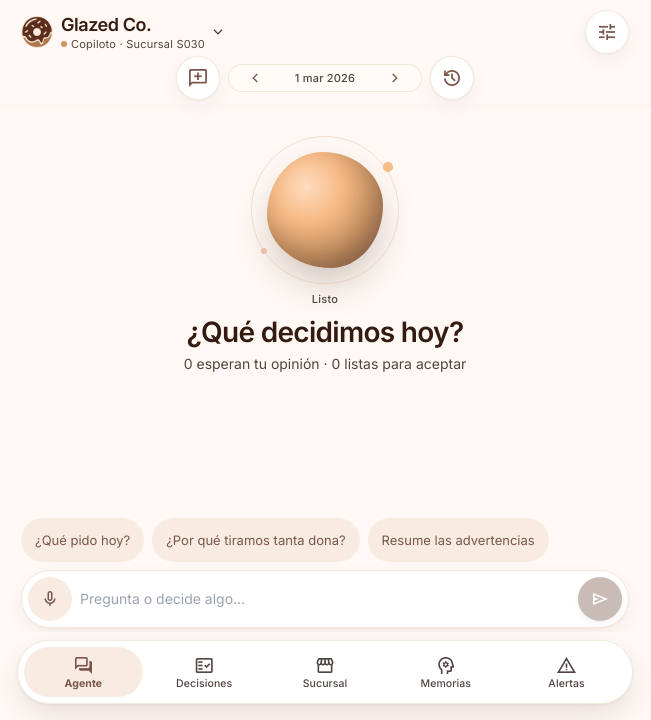
Test: auth gate › auth_required false but me 200 still shows the user
Click the button named "Ajustes del copiloto" at (607, 32), box [585,10,629,54]
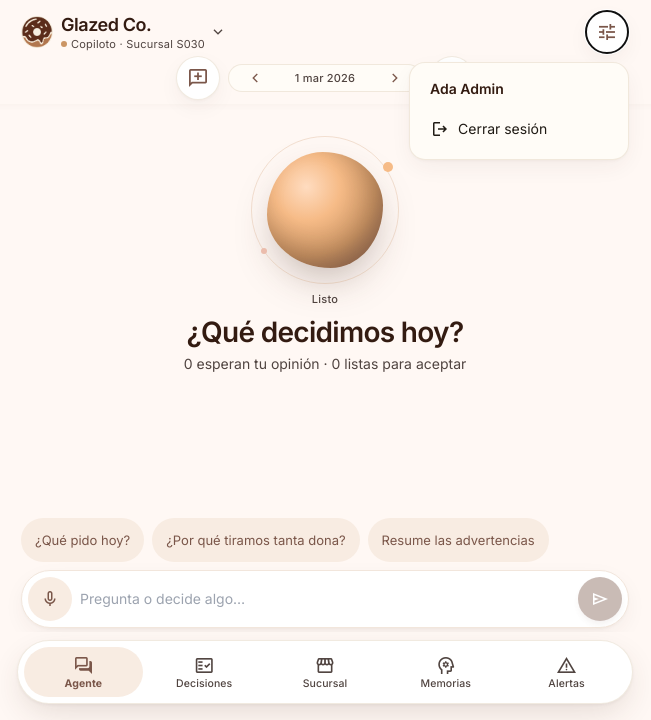
Result: the text "Ada Admin" is shown at [430,80,504,97]
